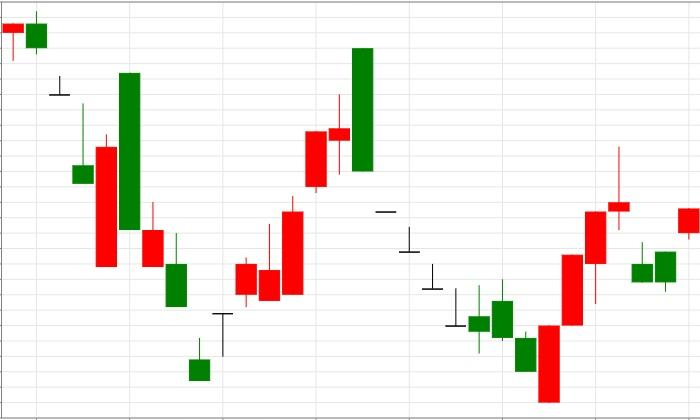bullish_engulfing_rise: (352, 48, 559, 402)
